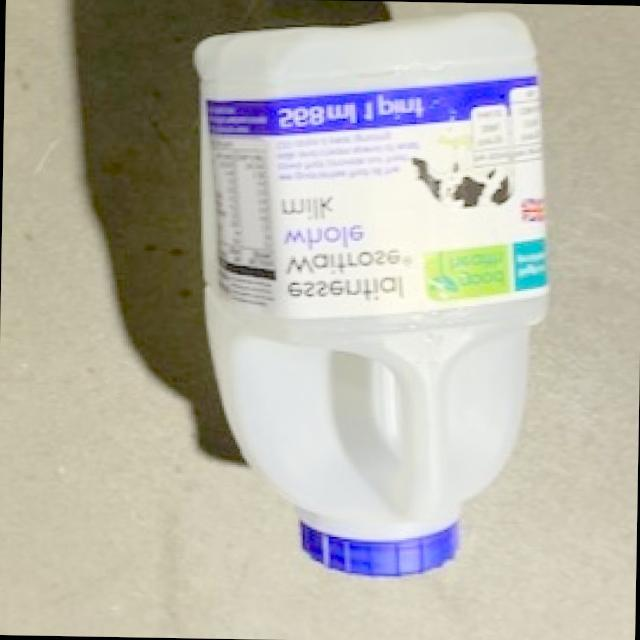HDPE Plastic: (191, 6, 557, 584)
